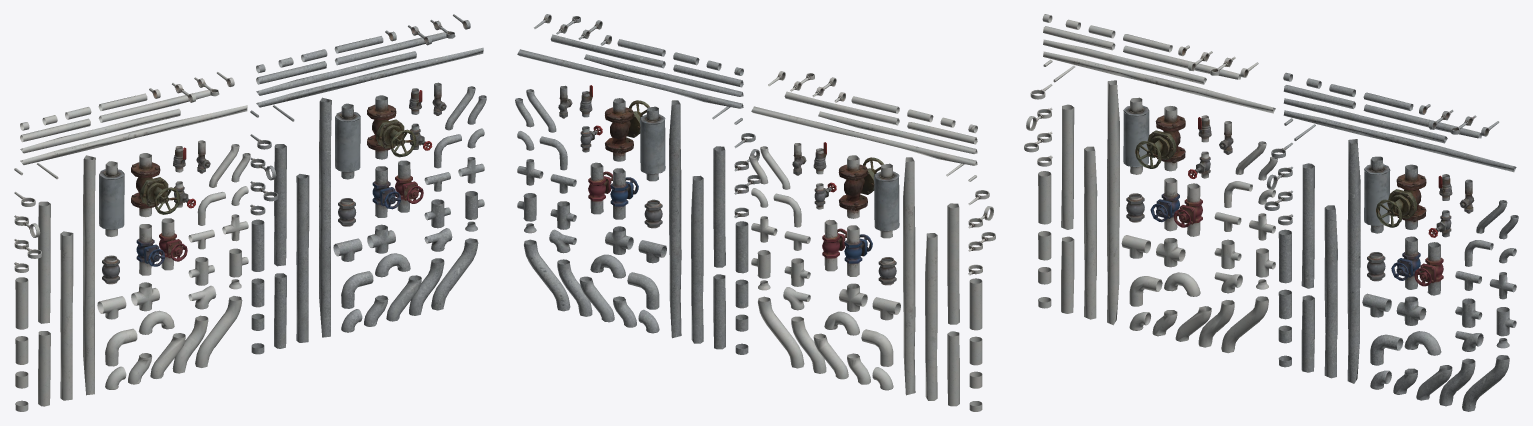
The model's file is modular-pipes.glb.
3 renders of one model, left to right at view 1: azimuth 30°, elevation 25°; view 2: azimuth 150°, elevation 25°; view 3: azimuth 330°, elevation 25°, orthographic. The views are drawn at different scales.
Visible parts, largest first — view 1: pipe_200cm_pvc, pipe_200cm_metal, pipe_140cm_metal, pipe_140cm_pvc, pipe_valve_large_metal, pipe_valve_large_pvc, pipe_thin_200cm_metal, pipe_thin_200cm_pvc, pipe_chamber_large_metal, pipe_chamber_large_pvc, pipe_100cm_pvc, pipe_100cm_metal (+34 smaller); view 2: pipe_200cm_metal, pipe_200cm_pvc, pipe_140cm_metal, pipe_140cm_pvc, pipe_chamber_large_metal, pipe_chamber_large_pvc, pipe_valve_large_metal, pipe_valve_large_pvc, pipe_thin_200cm_pvc, pipe_thin_200cm_metal, pipe_100cm_pvc, pipe_100cm_metal (+34 smaller); view 3: pipe_200cm_metal, pipe_200cm_pvc, pipe_140cm_metal, pipe_140cm_pvc, pipe_valve_large_pvc, pipe_valve_large_metal, pipe_thin_200cm_pvc, pipe_thin_200cm_metal, pipe_chamber_large_pvc, pipe_100cm_metal, pipe_chamber_large_metal, pipe_100cm_pvc (+33 smaller).
Part boxes in pixels (left/top/right/bottom): pipe_200cm_pvc: left=83, top=155, right=95, bottom=395; pipe_200cm_metal: left=319, top=97, right=331, bottom=337; pipe_140cm_metal: left=296, top=174, right=309, bottom=342; pipe_140cm_pvc: left=60, top=231, right=73, bottom=400; pipe_valve_large_metal: left=367, top=95, right=416, bottom=159; pipe_valve_large_pvc: left=131, top=153, right=180, bottom=217; pipe_thin_200cm_metal: left=256, top=47, right=483, bottom=107; pipe_thin_200cm_pvc: left=20, top=105, right=247, bottom=164; pipe_chamber_large_metal: left=335, top=103, right=360, bottom=179; pipe_chamber_large_pvc: left=99, top=161, right=124, bottom=236; pipe_100cm_pvc: left=38, top=201, right=50, bottom=323; pipe_100cm_metal: left=274, top=144, right=286, bottom=266; pipe_200cm_metal: left=669, top=100, right=681, bottom=338; pipe_200cm_pvc: left=903, top=157, right=915, bottom=395; pipe_140cm_metal: left=691, top=175, right=703, bottom=343; pipe_140cm_pvc: left=925, top=233, right=937, bottom=400; pipe_chamber_large_metal: left=640, top=106, right=665, bottom=181; pipe_chamber_large_pvc: left=874, top=163, right=899, bottom=238; pipe_valve_large_metal: left=605, top=98, right=649, bottom=161; pipe_valve_large_pvc: left=838, top=155, right=883, bottom=218; pipe_thin_200cm_pvc: left=751, top=106, right=977, bottom=165; pipe_thin_200cm_metal: left=517, top=49, right=743, bottom=108; pipe_100cm_pvc: left=947, top=203, right=959, bottom=324; pipe_100cm_metal: left=713, top=146, right=725, bottom=267; pipe_200cm_metal: left=1347, top=139, right=1360, bottom=383; pipe_200cm_pvc: left=1107, top=80, right=1119, bottom=325; pipe_140cm_metal: left=1324, top=205, right=1337, bottom=378; pipe_140cm_pvc: left=1084, top=146, right=1097, bottom=319; pipe_valve_large_pvc: left=1135, top=106, right=1185, bottom=171; pipe_valve_large_metal: left=1376, top=164, right=1426, bottom=229; pipe_thin_200cm_pvc: left=1043, top=51, right=1275, bottom=113; pipe_thin_200cm_metal: left=1283, top=110, right=1516, bottom=172; pipe_chamber_large_pvc: left=1123, top=97, right=1149, bottom=174; pipe_100cm_metal: left=1301, top=163, right=1314, bottom=288; pipe_chamber_large_metal: left=1364, top=156, right=1390, bottom=233; pipe_100cm_pvc: left=1061, top=104, right=1074, bottom=229.
Bounding box in the file's own units: 4.19 × 2.43 × 0.4568.
2 materials, 2 textured.
